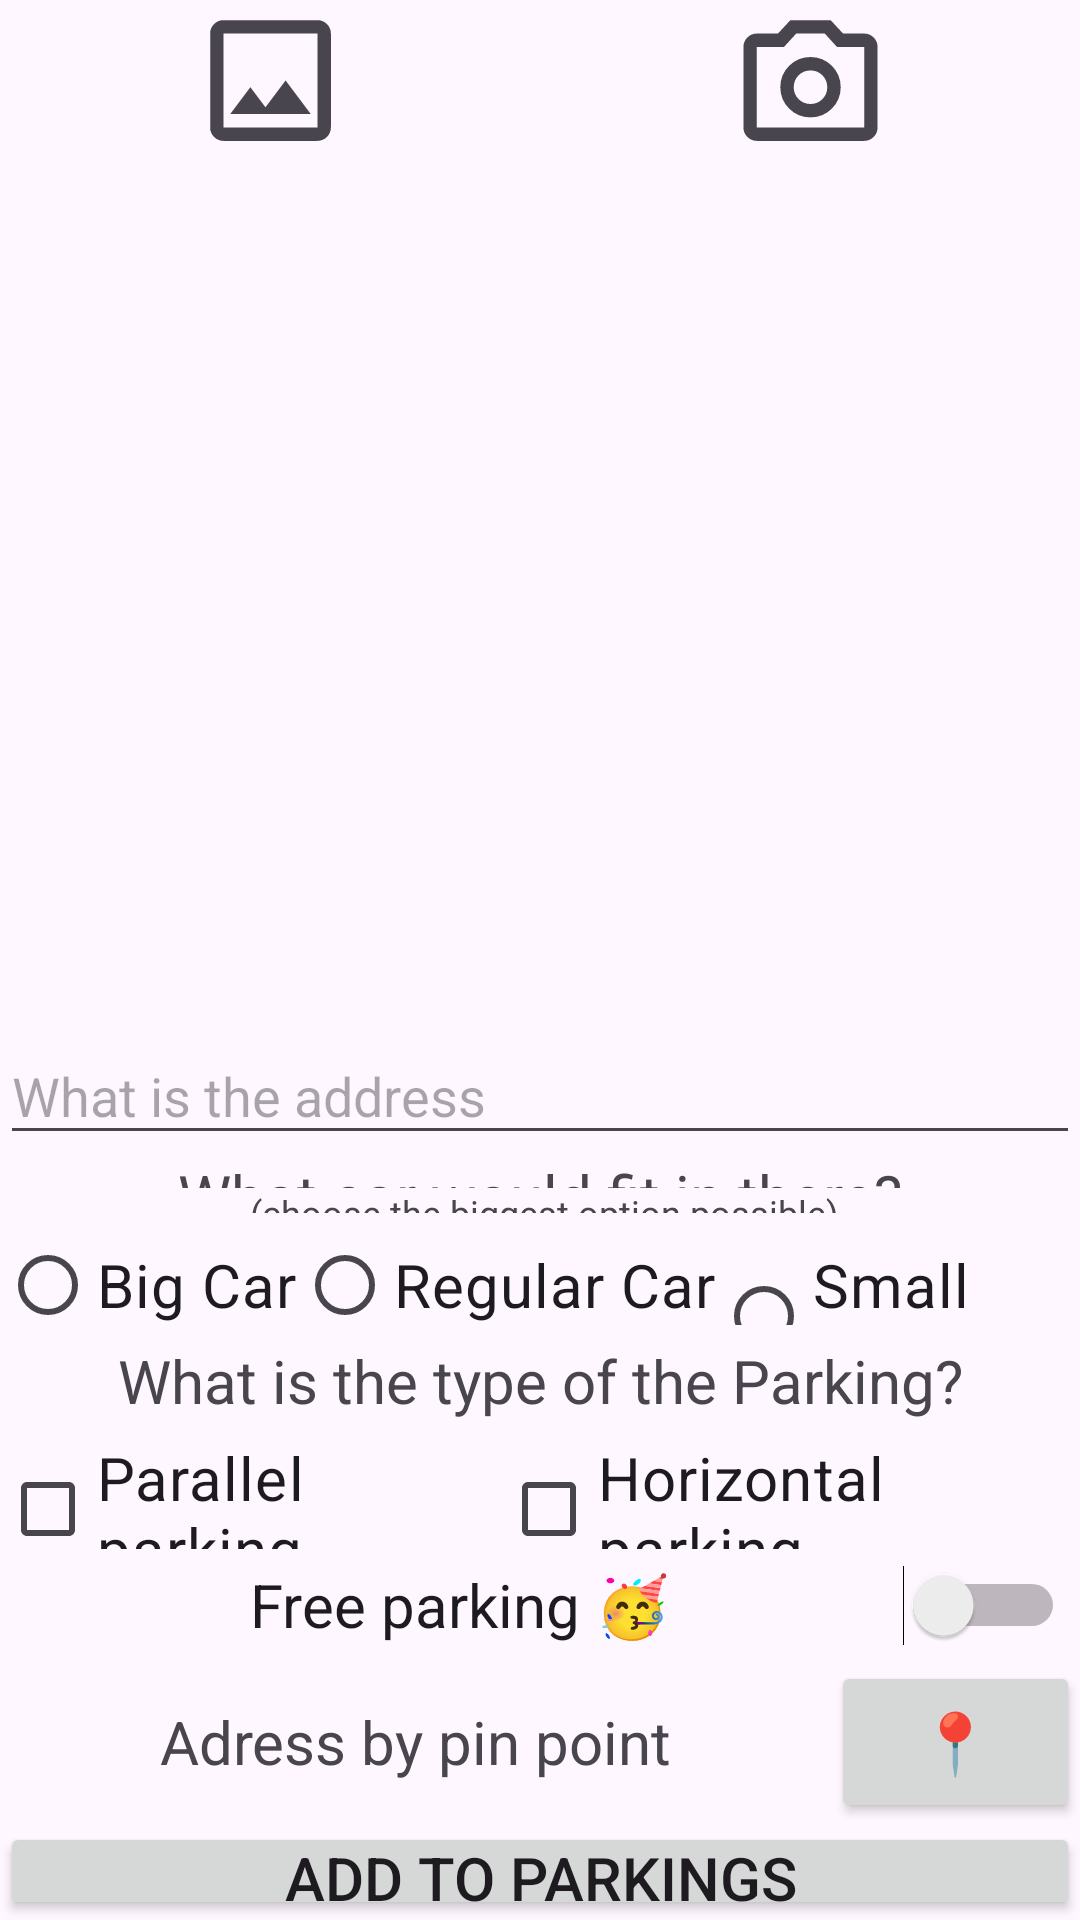

Icon click points for this 1080*1920 phone screenshot, format [x,y]:
add photo from camera: [810,80]
add photo from gallery: [270,80]
